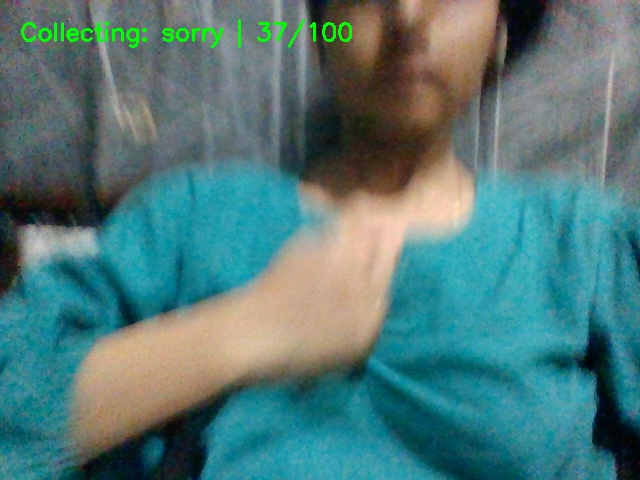sorry: (204, 183, 441, 423)
